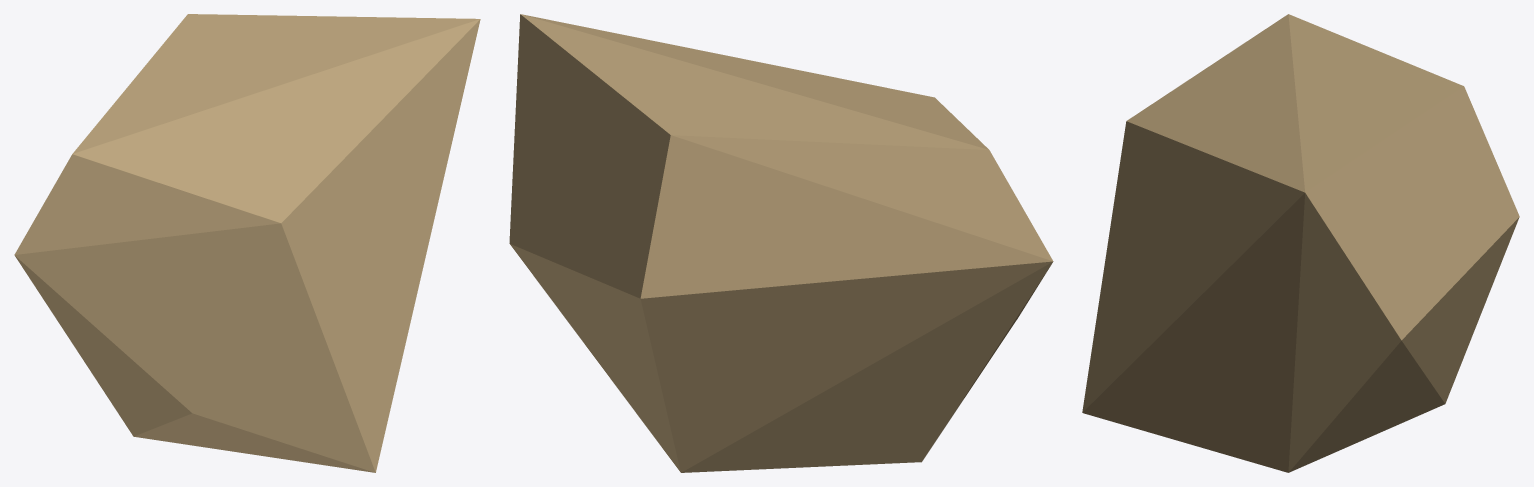
File: Rock-B07.fbx
3 views of the same model, side by side, from view 1: azimuth 30°, elevation 25°; view 2: azimuth 150°, elevation 25°; view 3: azimuth 270°, elevation 25° (orthographic). The views are drawn at different scales.
Visible parts, largest first — view 1: Rock-B07; view 2: Rock-B07; view 3: Rock-B07.
Boxes of the visible parts, box(x1,y1,x2,y2) form: Rock-B07: box(14, 14, 480, 472); Rock-B07: box(509, 14, 1053, 472); Rock-B07: box(1082, 14, 1519, 472).
Bounding box in the file's own units: 56.97 × 37.4 × 44.75.
